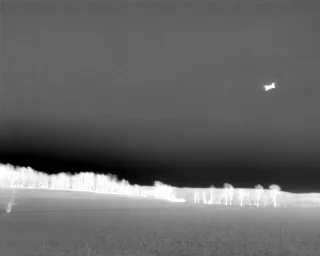DRONE: (260, 77, 281, 95)
